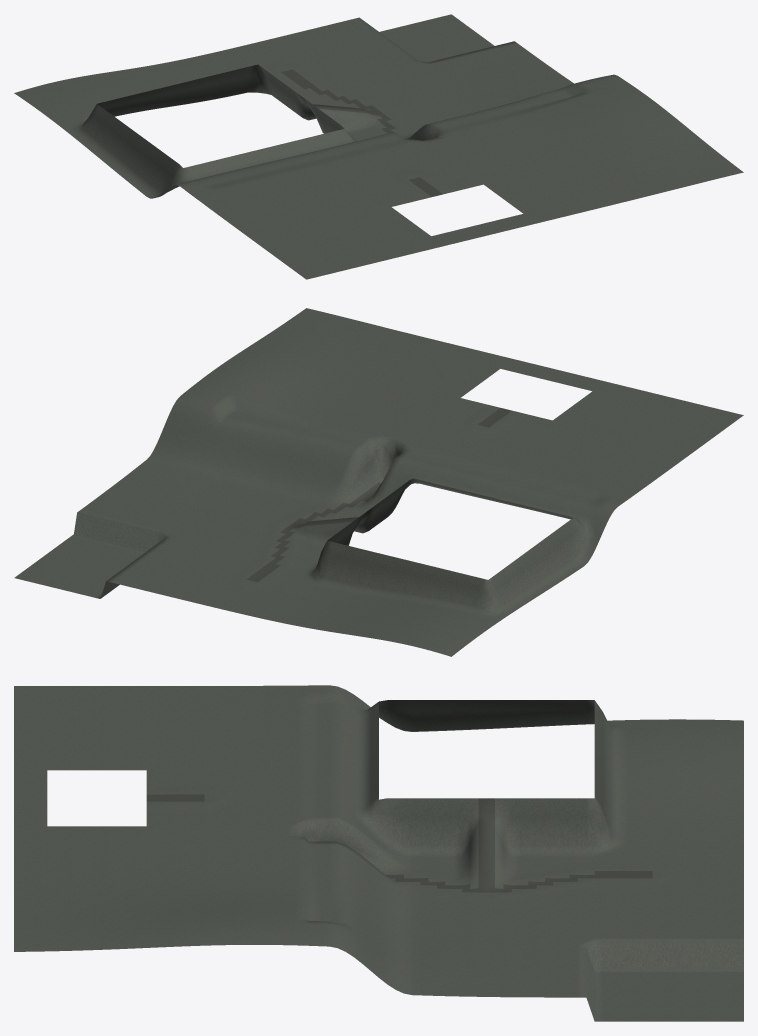
The model's file is level_site_wld_09_terrain.glb.
3 renders of one model, top to bottom at view 1: azimuth 30°, elevation 25°; view 2: azimuth 150°, elevation 25°; view 3: azimuth 270°, elevation 25°, orthographic. The views are drawn at different scales.
Visible parts, largest first — view 1: level_site_wld_09_terrain; view 2: level_site_wld_09_terrain; view 3: level_site_wld_09_terrain.
Boxes of the visible parts, x1=… form: level_site_wld_09_terrain: x1=14, y1=14, x2=743, y2=279; level_site_wld_09_terrain: x1=14, y1=308, x2=743, y2=656; level_site_wld_09_terrain: x1=14, y1=685, x2=743, y2=1021.
Size of the model in its own units: 76 by 10.4 by 88.
Materials: 2 (2 with a texture image).
